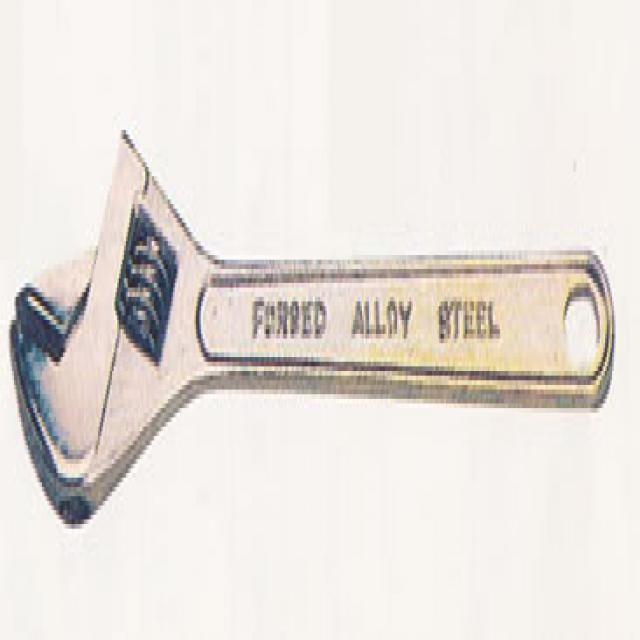wrench: (1, 117, 618, 539)
